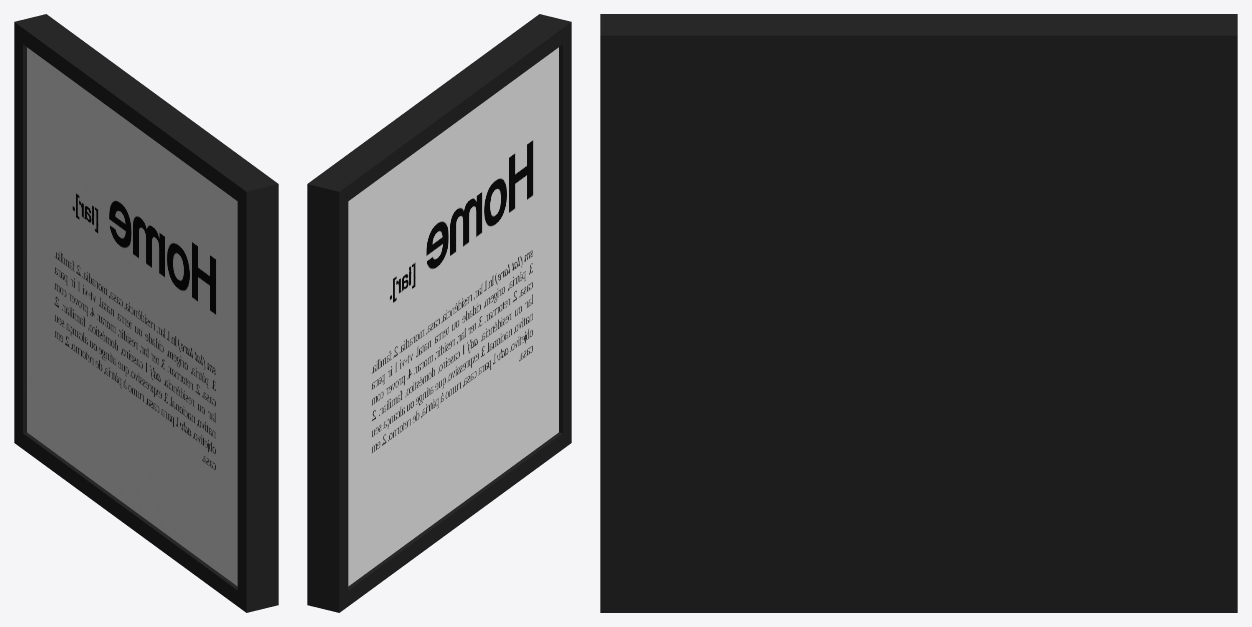
The model's file is SM_Picture_1.fbx.
The picture shows the model from 3 angles, left to right: view 1: azimuth 30°, elevation 25°; view 2: azimuth 150°, elevation 25°; view 3: azimuth 270°, elevation 25°; orthographic projection. The views are drawn at different scales.
Visible parts, largest first — view 1: SM_Picture_1; view 2: SM_Picture_1; view 3: SM_Picture_1.
Boxes of the visible parts, x1,y1,x2,y2 form: SM_Picture_1: (14,14,278,612); SM_Picture_1: (307,14,571,612); SM_Picture_1: (600,14,1237,612).
Size of the model in its own units: 0.0235 by 0.294 by 0.294.
2 materials, 2 textured.
